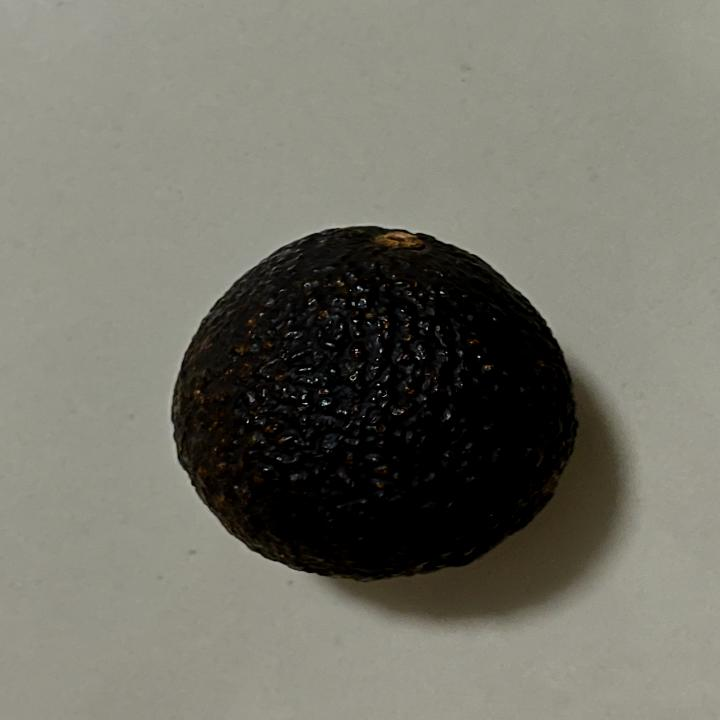Level2: (163, 218, 587, 586)
